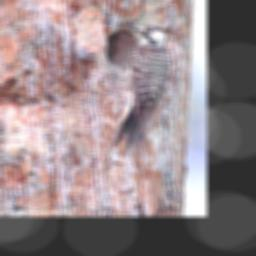Woodpecker: (115, 24, 170, 150)
